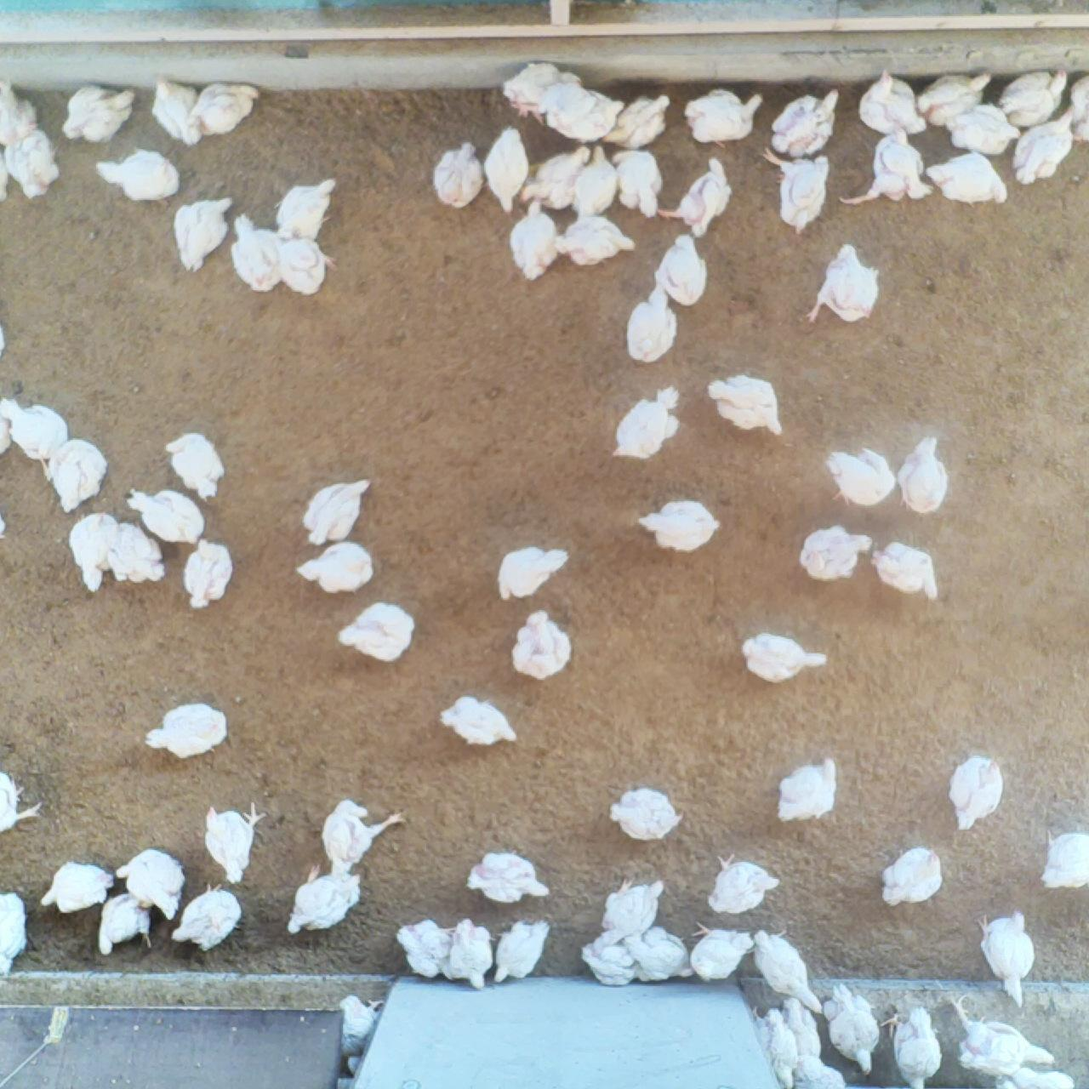chicken: (945, 993, 1051, 1079), (839, 128, 930, 208), (323, 799, 408, 878), (657, 152, 731, 237), (808, 243, 881, 328), (977, 911, 1039, 1009), (283, 863, 363, 932), (755, 929, 820, 1012), (147, 696, 229, 761), (611, 385, 681, 461), (3, 391, 72, 468), (707, 372, 784, 439), (500, 62, 579, 124), (171, 884, 244, 951), (38, 438, 105, 510), (824, 984, 881, 1067), (125, 488, 205, 547), (758, 151, 820, 227), (339, 603, 418, 662), (60, 82, 137, 142), (880, 1007, 937, 1088), (742, 631, 828, 684), (294, 540, 375, 596), (206, 803, 262, 884), (172, 197, 231, 273), (559, 215, 640, 270), (467, 850, 554, 900), (827, 448, 897, 510), (800, 523, 870, 585), (164, 433, 224, 505), (924, 153, 1007, 205), (231, 214, 287, 291), (97, 149, 178, 201), (332, 989, 393, 1058), (771, 90, 837, 153), (750, 1003, 798, 1089), (709, 858, 782, 914), (607, 790, 684, 843), (117, 847, 182, 909), (276, 175, 339, 238), (302, 481, 366, 543), (862, 70, 923, 135), (687, 88, 759, 143), (546, 88, 619, 142), (510, 202, 561, 279), (624, 288, 676, 363), (997, 68, 1069, 122), (894, 439, 946, 513), (521, 147, 587, 205), (951, 755, 1002, 830), (945, 105, 1023, 153), (151, 77, 206, 145), (874, 541, 942, 596), (881, 848, 949, 903), (40, 859, 116, 908), (628, 931, 701, 982), (1011, 118, 1071, 180), (778, 760, 837, 823), (492, 917, 550, 981), (113, 520, 170, 585), (499, 544, 566, 599), (512, 608, 570, 671), (182, 540, 232, 613), (441, 696, 517, 744), (654, 234, 705, 305), (94, 893, 154, 953), (275, 233, 334, 294), (920, 72, 989, 124), (443, 916, 494, 986), (601, 882, 668, 935), (197, 81, 257, 140), (691, 926, 755, 981), (67, 512, 109, 595), (433, 140, 483, 208), (7, 133, 60, 197), (641, 500, 713, 547), (606, 92, 666, 147), (613, 147, 659, 218), (483, 127, 521, 212), (572, 145, 613, 220), (781, 996, 821, 1069), (584, 936, 636, 989), (1041, 830, 1089, 887), (1, 772, 41, 837), (401, 918, 448, 973), (1, 81, 37, 149), (1, 886, 25, 978), (1063, 72, 1089, 146), (986, 1069, 1080, 1089), (791, 1061, 852, 1089), (326, 1053, 372, 1089), (1, 419, 18, 462), (1, 154, 10, 205), (1, 311, 9, 364), (1, 506, 9, 547)
